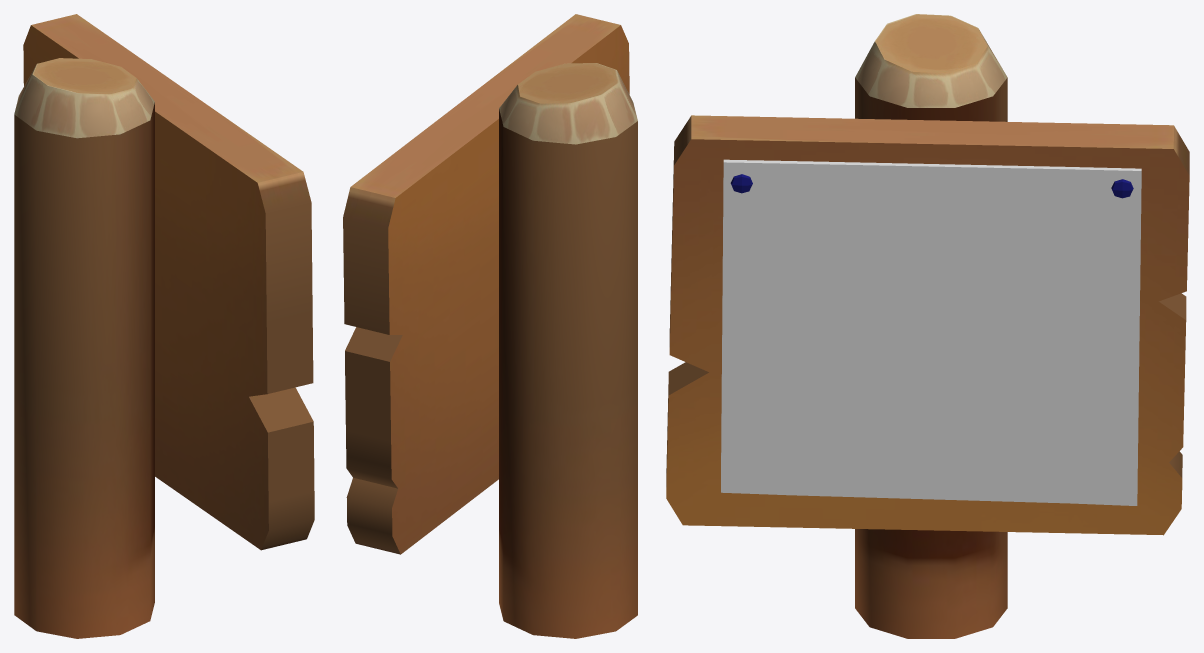
The model's file is sign.fbx.
3 views of the same model, side by side, from view 1: azimuth 30°, elevation 25°; view 2: azimuth 150°, elevation 25°; view 3: azimuth 270°, elevation 25° (orthographic). The views are drawn at different scales.
Visible parts, largest first — view 1: Cylinder; view 2: Cylinder; view 3: Plane.002, Cylinder.
Boxes of the visible parts, box(x1,y1,x2,y2) form: Cylinder: box(14, 14, 314, 638); Cylinder: box(343, 14, 637, 638); Plane.002: box(721, 159, 1141, 505); Cylinder: box(666, 14, 1189, 638).
Bounding box in the file's own units: 146 × 426 × 354.
3 materials, 1 textured.
